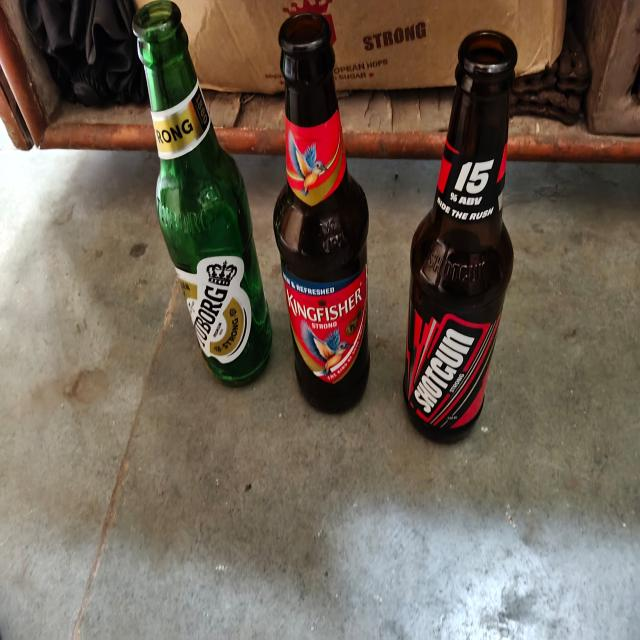Alcohol-Bottle-Detection: (119, 6, 273, 410), (406, 21, 540, 478), (263, 26, 396, 419)
